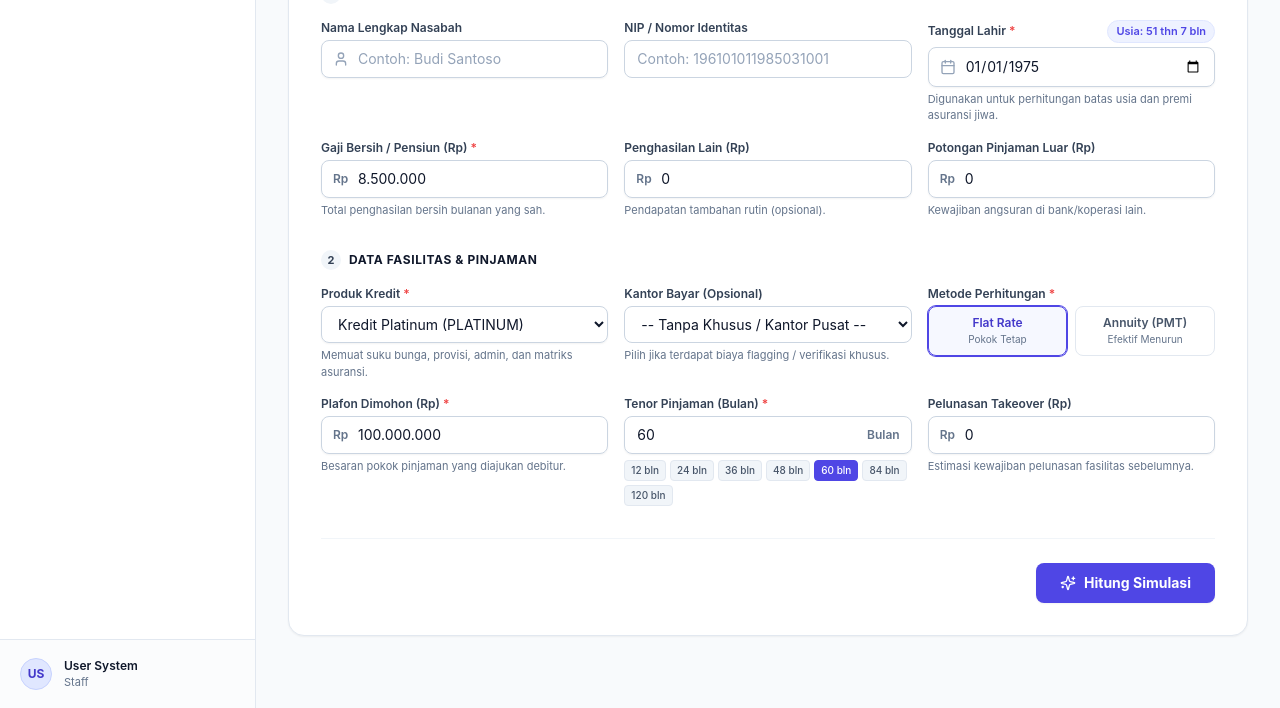
Test: TASK-047: Calculate Action End-to-End Flow Tests › should handle error response according to API error contract and display alert banner
This screenshot has width=1280, height=708.
(page scrolled)
Click the button with test id "calculate-submit-btn" at [1126, 583], box [1036, 563, 1215, 603]
(page scrolled)
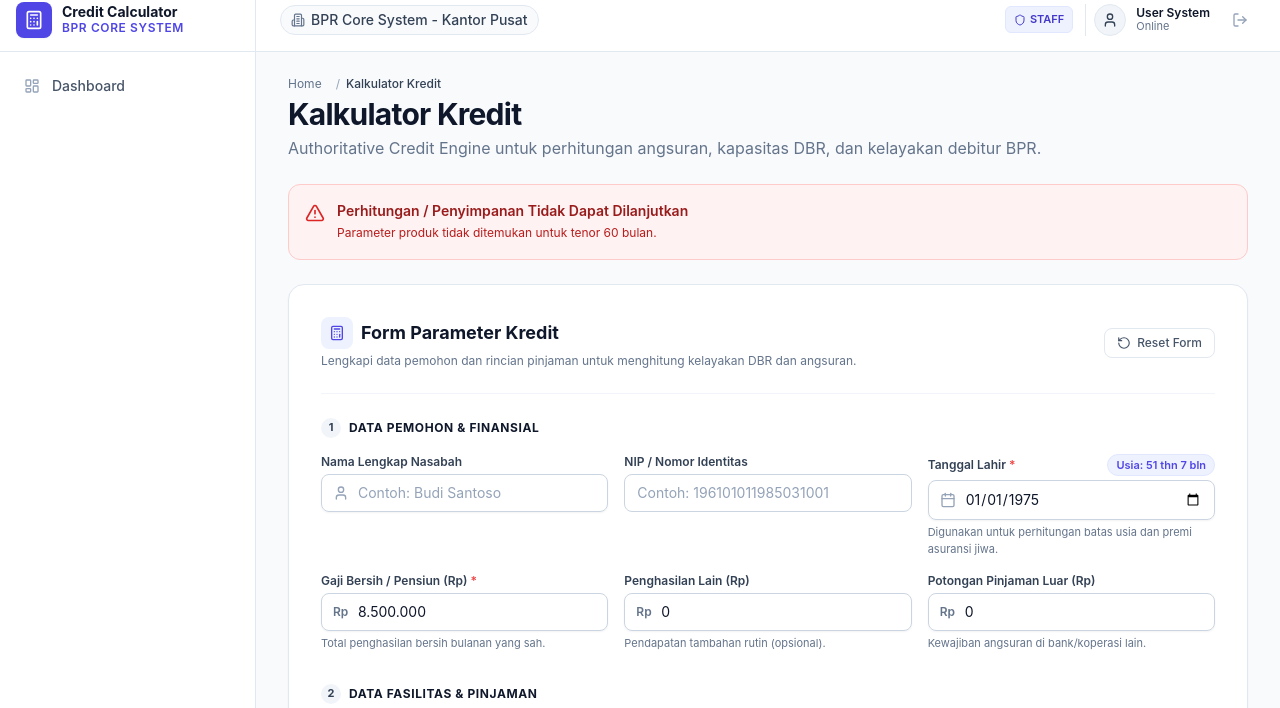
Now the message with test id "calculator-error-banner" is shown, box [288, 184, 1248, 260]
Now the text "Parameter produk tidak ditemukan untuk tenor 60 bulan." is shown, box [337, 223, 688, 242]
